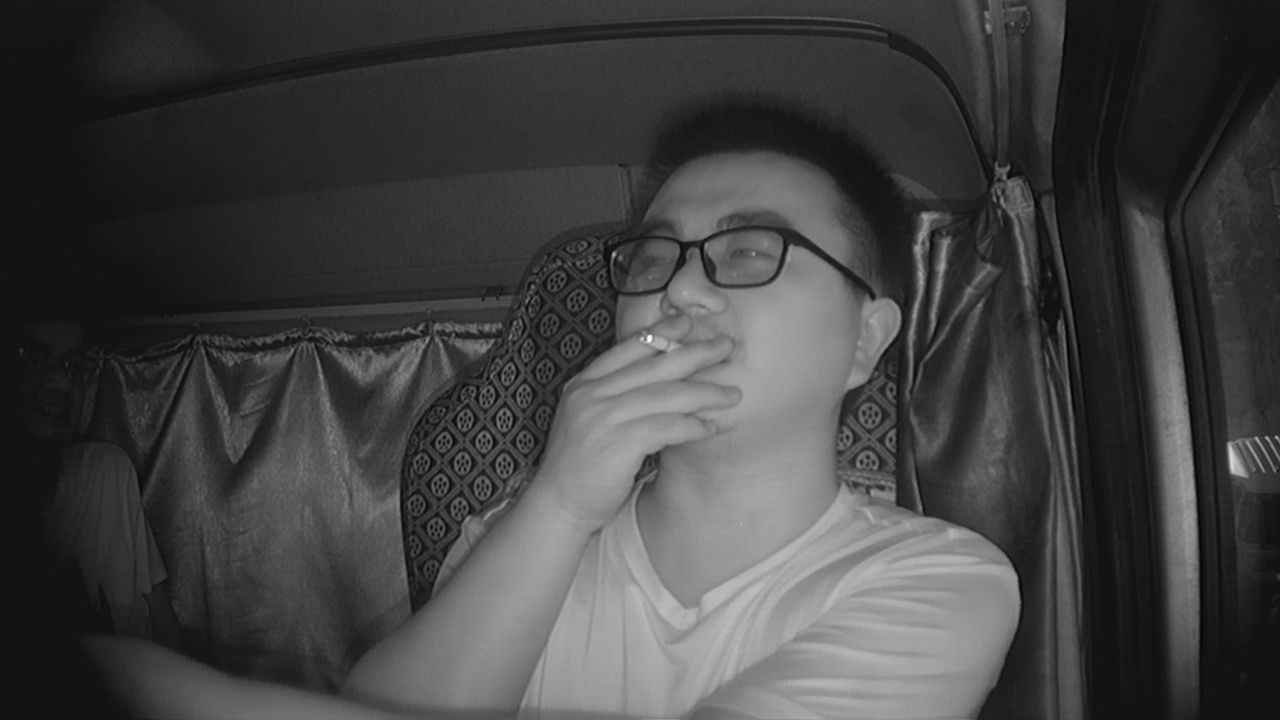hand: (585, 312, 733, 460)
